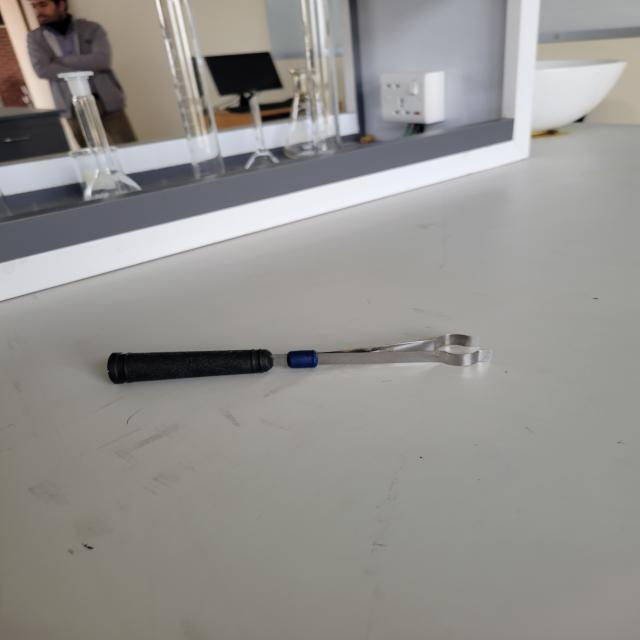TestTube_Holder: (72, 299, 530, 428)
